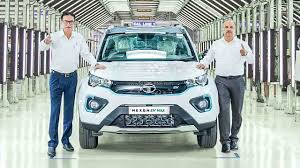Tata Nexon: (76, 22, 219, 152)
